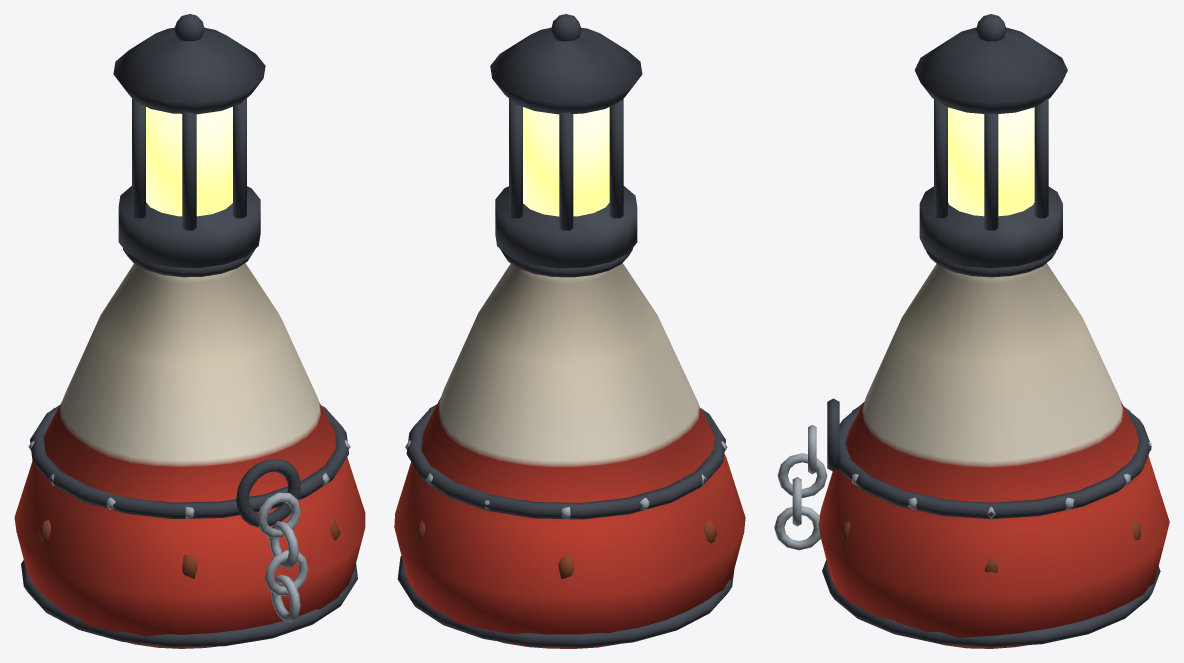
Rendered from deco-boya.glb.
The picture shows the model from 3 angles, left to right: view 1: azimuth 30°, elevation 25°; view 2: azimuth 150°, elevation 25°; view 3: azimuth 270°, elevation 25°; orthographic projection.
Parts seen in each view (by area): view 1: Buoy, Lamp, Chain; view 2: Buoy, Lamp; view 3: Buoy, Lamp, Chain.
Boxes of the visible parts, x1,y1,x2,y2 form: Buoy: (14, 14, 365, 648); Lamp: (146, 106, 232, 216); Chain: (257, 492, 308, 622); Buoy: (394, 14, 745, 648); Lamp: (523, 107, 609, 216); Buoy: (818, 14, 1169, 648); Lamp: (948, 107, 1034, 216); Chain: (774, 425, 827, 550).
Bounding box in the file's own units: 0.5473 × 1 × 0.616.
